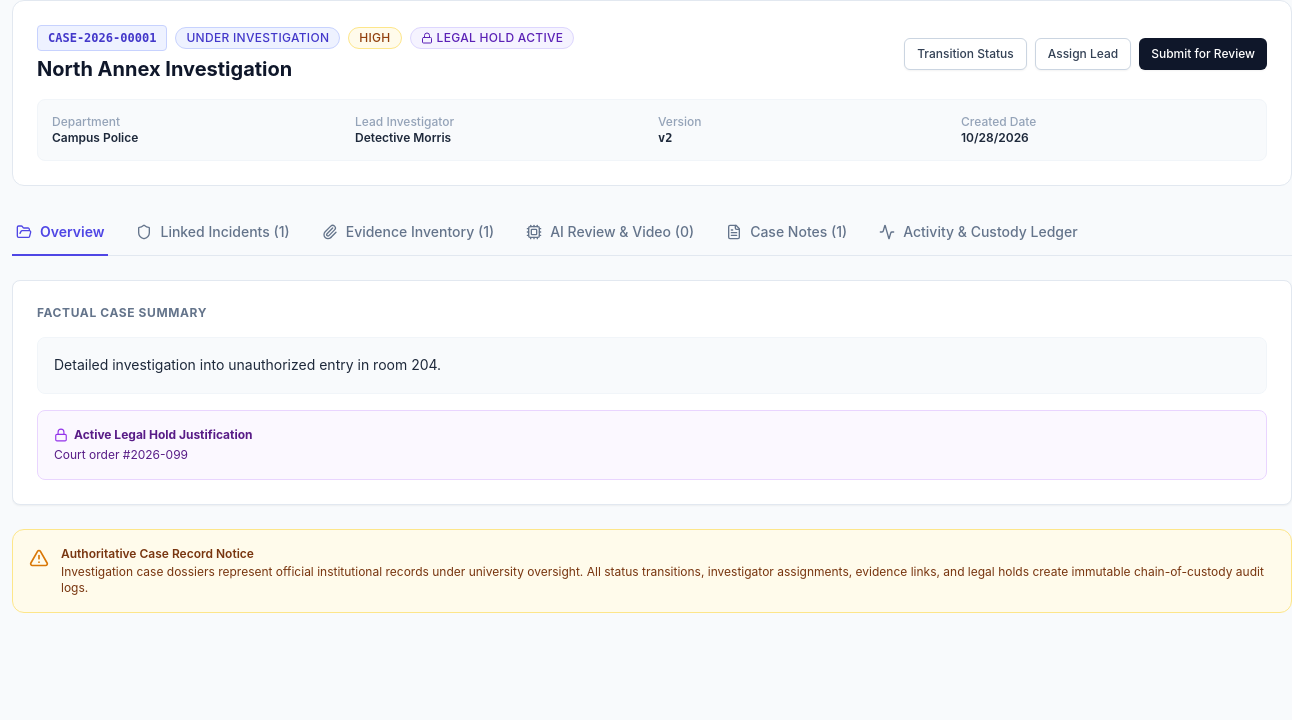
it: CaseDossierView Component › navigates to Evidence Inventory tab and renders SHA-256 and hold status
Check: the text "CASE-2026-00001" is shown, box [37,25,167,51]
Click the button "Evidence Inventory (1)": (408, 233) [318,210,498,256]
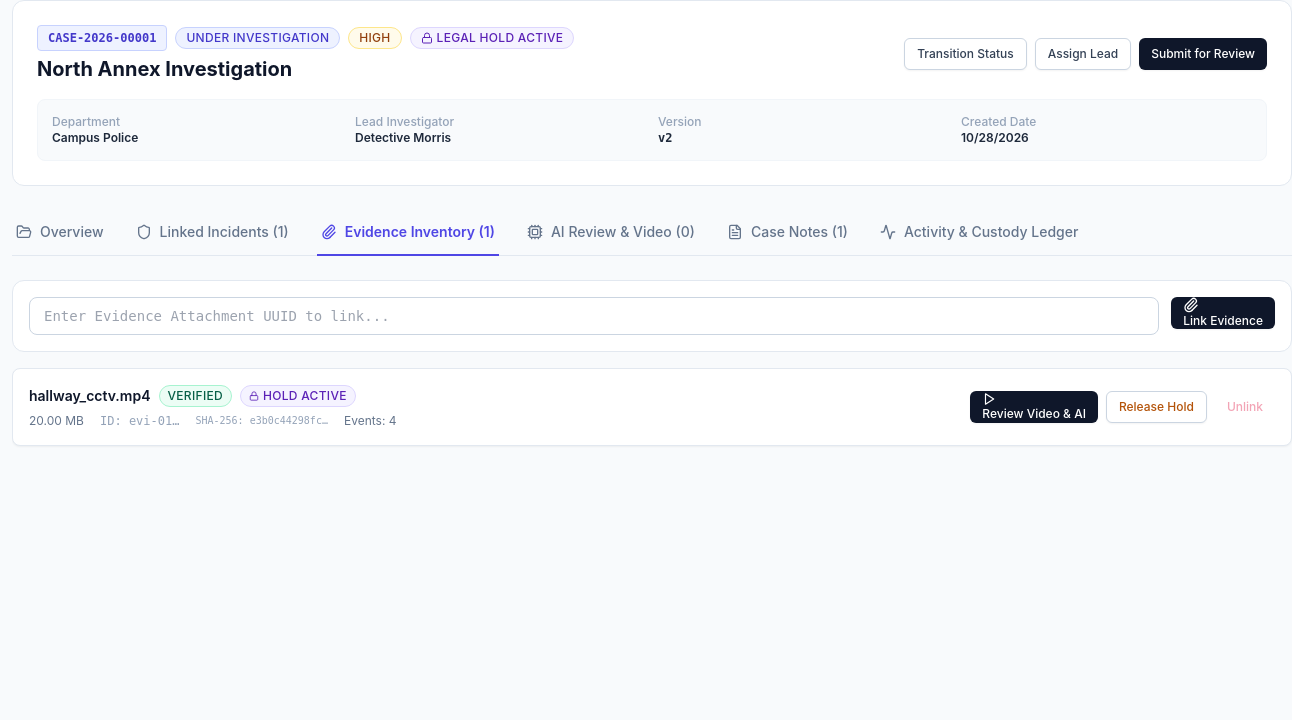
Check: the text "hallway_cctv.mp4" is shown, box [29,386,150,406]
Check: the text "VERIFIED" is shown, box [158,385,232,407]
Check: the text "HOLD ACTIVE" is shown, box [240,385,356,407]
